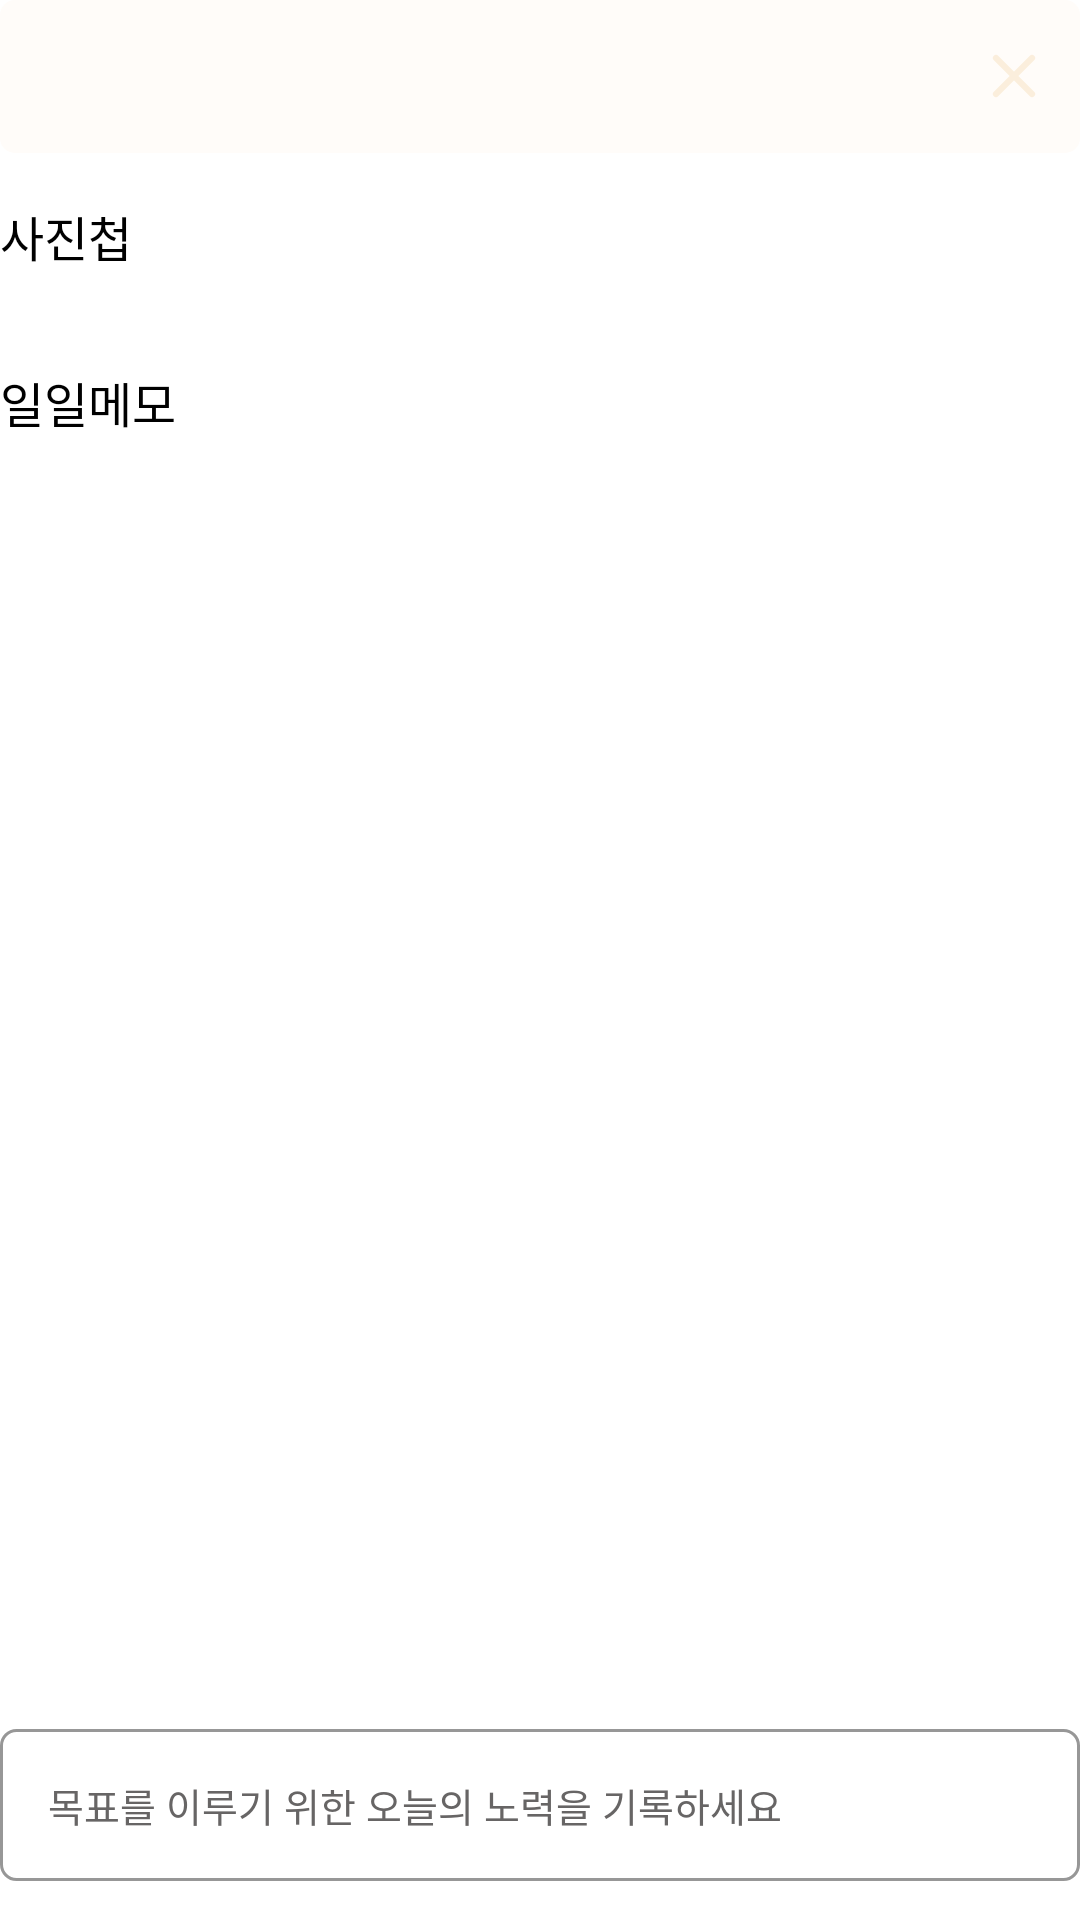

Icon click points for this 1080*1920 phone screenshot, format (x=x, y=y):
delete: (x=1014, y=76)
